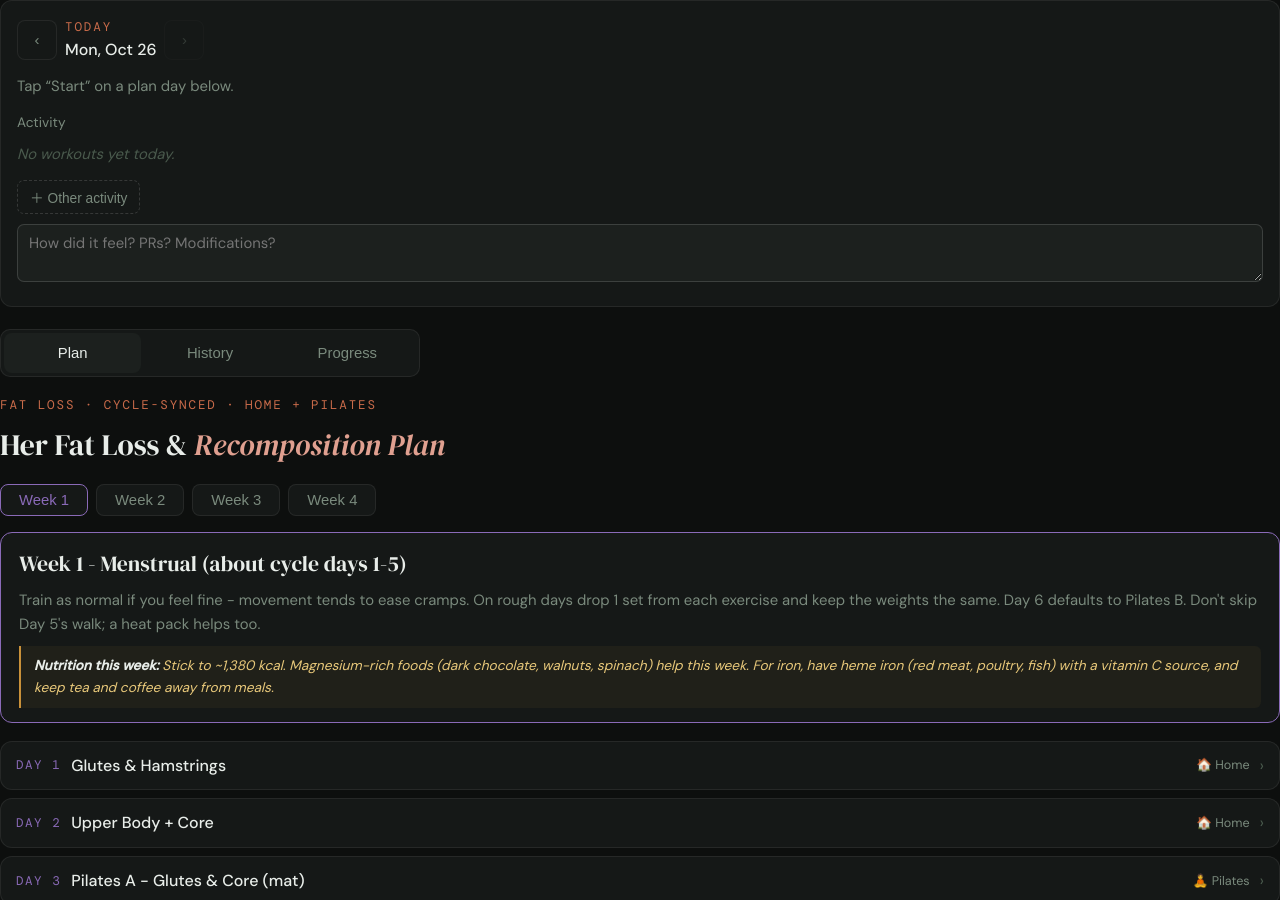
Test: Train tab: editing and history › tapping a history day opens it in the day card
The width and height of the screenshot is (1280, 900).
Click the tab "History": click(210, 353) [141,333,279,373]
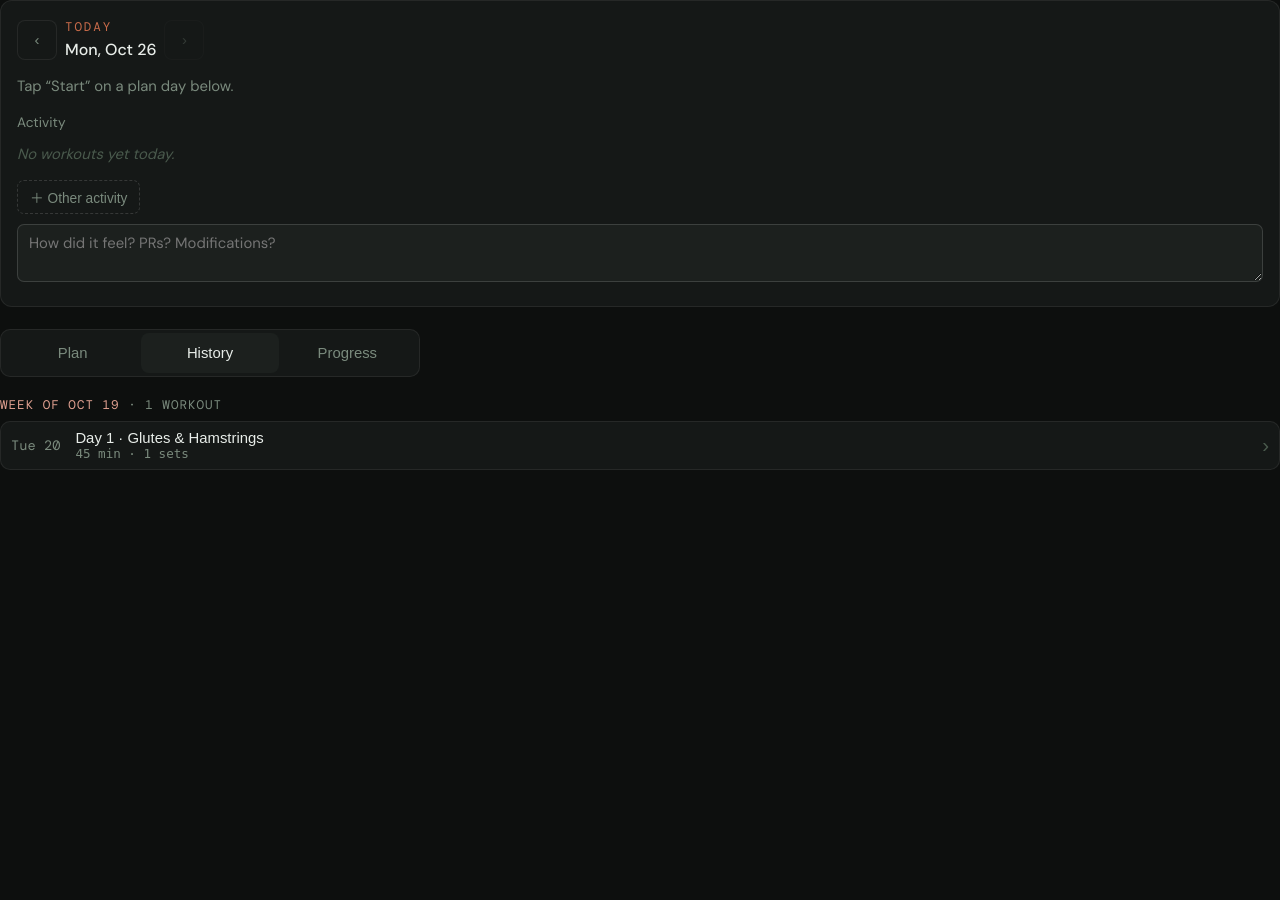
Click the button "Tue 20 Day 1 · Glutes & Hamstrings 45 min · 1 sets ›": click(170, 438) [0,421,1279,470]
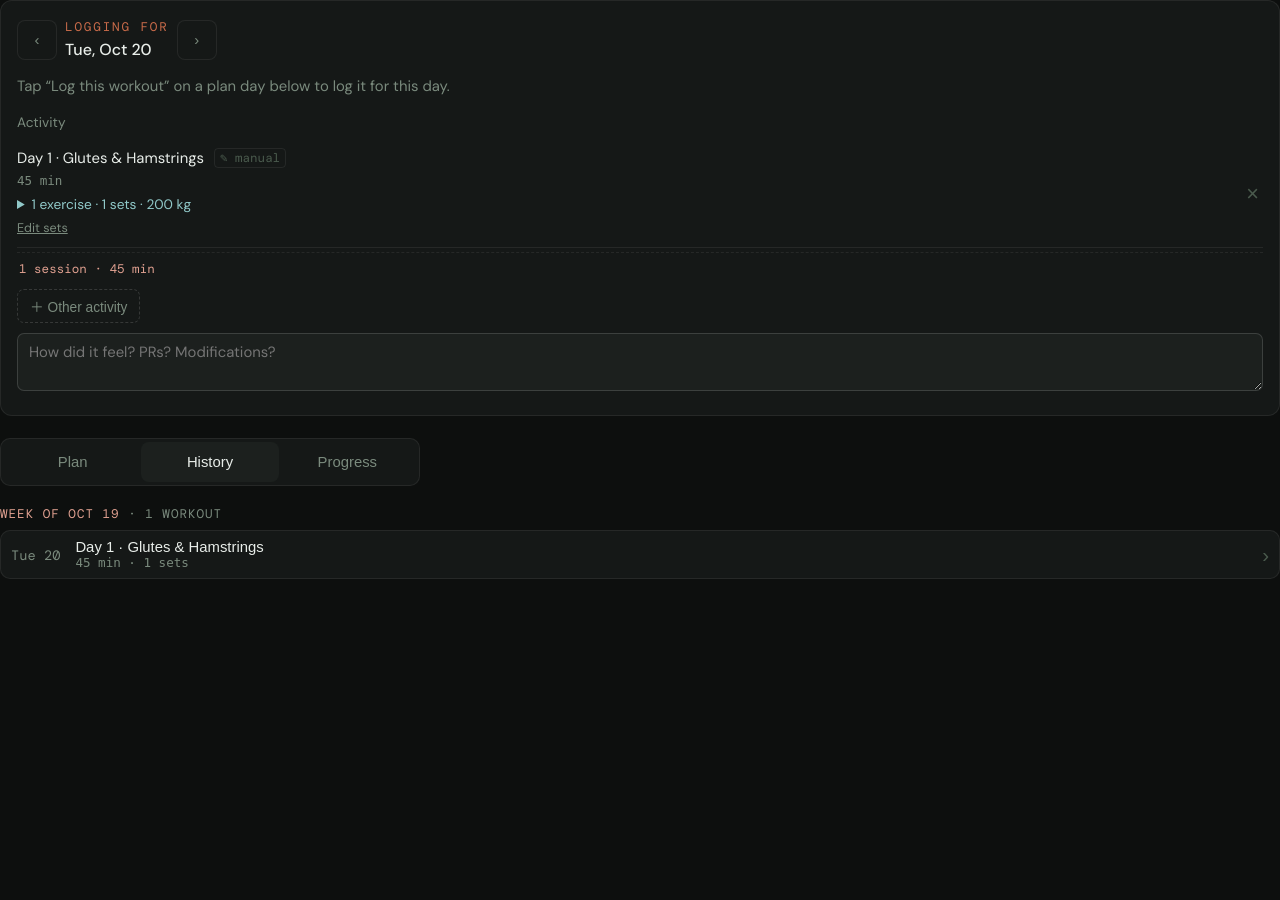
Result: the text "Logging for" is shown at [65,17,169,37]
Result: the text "Tue, Oct 20" is shown at [65,39,152,60]
Result: the button "Edit sets" is shown at [17,216,68,240]
